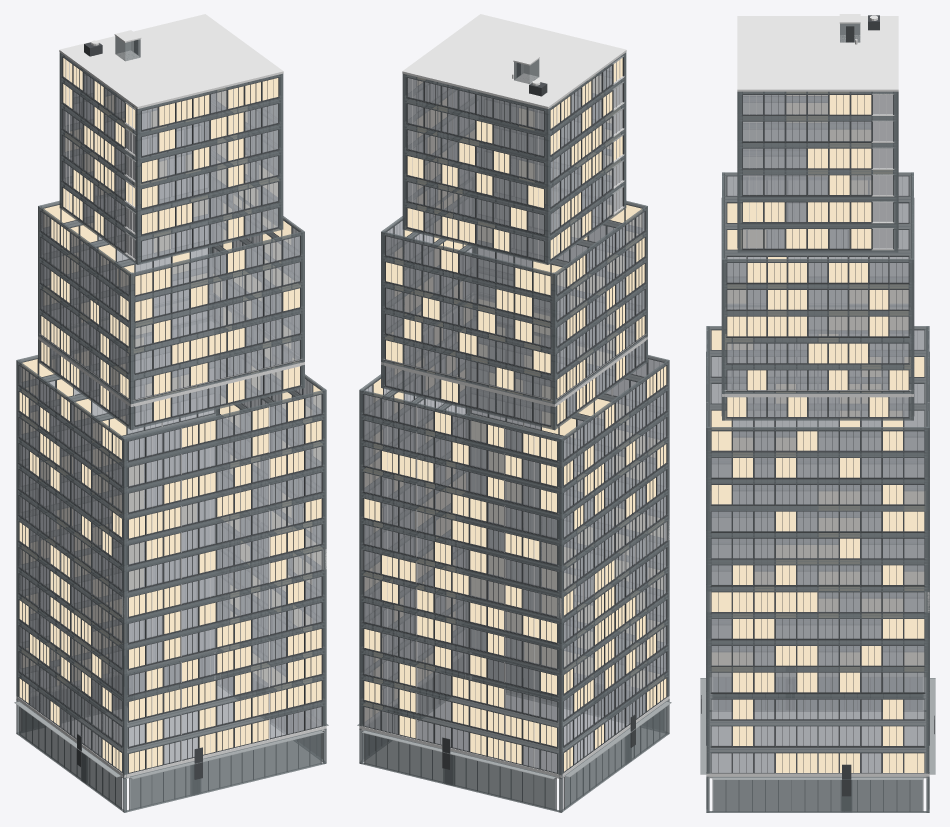
Rendered from Skymodern_highrise_0000008.glb.
3 views of the same model, side by side, from view 1: azimuth 30°, elevation 25°; view 2: azimuth 150°, elevation 25°; view 3: azimuth 270°, elevation 25° (orthographic). The views are drawn at different scales.
Visible parts, largest first — view 1: Skymodern_highrise_0000008; view 2: Skymodern_highrise_0000008; view 3: Skymodern_highrise_0000008.
Boxes of the visible parts, bbox=[...] form: Skymodern_highrise_0000008: bbox=[14, 14, 328, 812]; Skymodern_highrise_0000008: bbox=[357, 14, 671, 812]; Skymodern_highrise_0000008: bbox=[700, 14, 935, 812].
Size of the model in its own units: 27.3 by 87.01 by 25.41.
